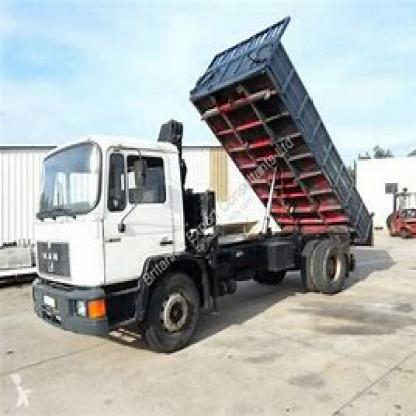dump_truck: (19, 17, 384, 358)
